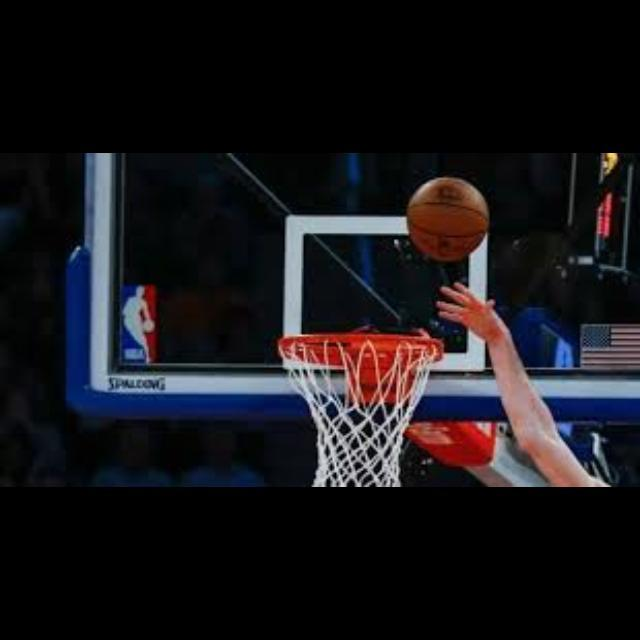basketball: (408, 179, 488, 259)
rim: (280, 334, 440, 488)
